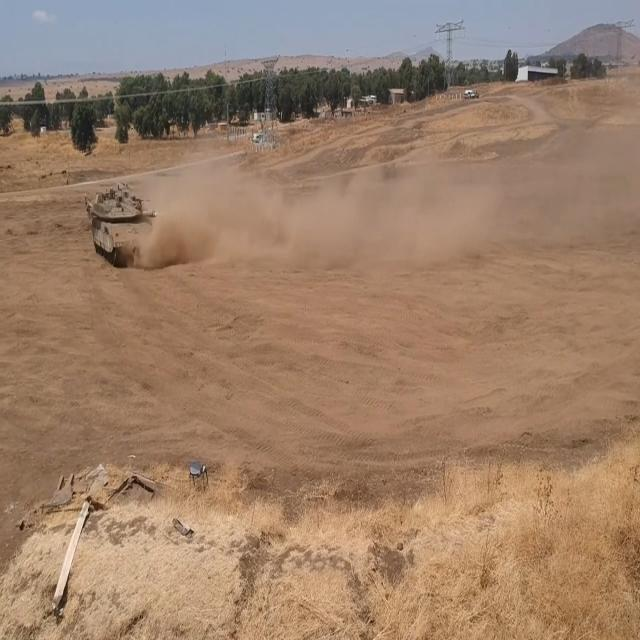tank: (86, 176, 168, 270)
